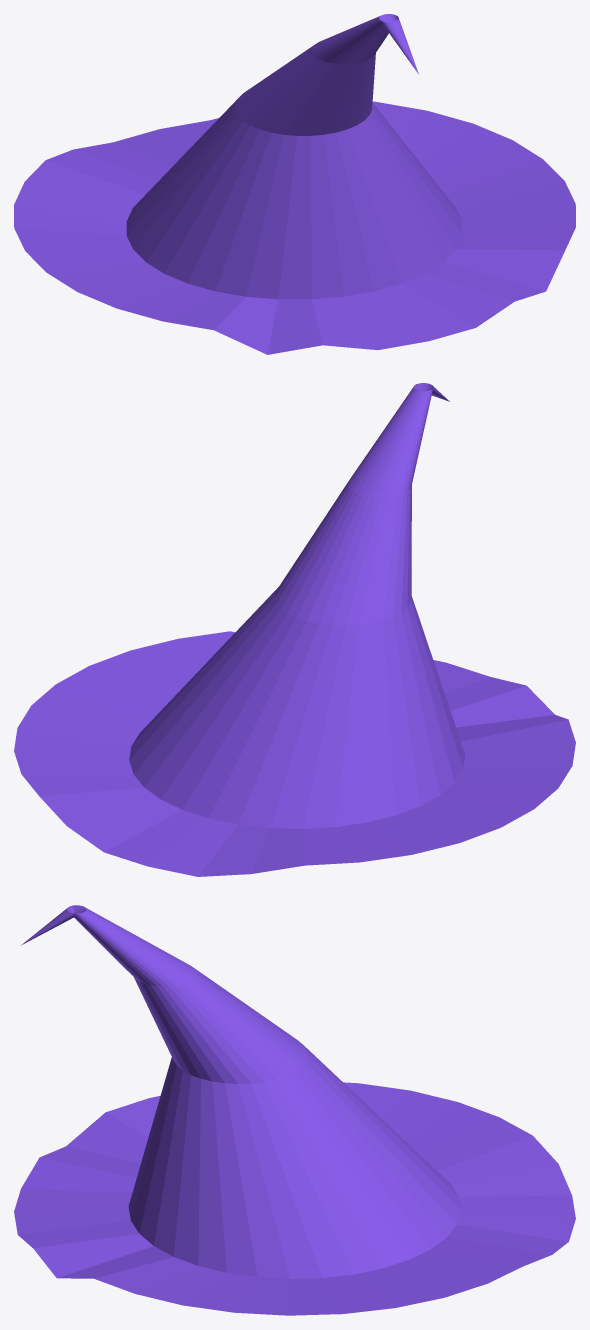
Rendered from WitchHat.fbx.
3 renders of one model, top to bottom at view 1: azimuth 30°, elevation 25°; view 2: azimuth 150°, elevation 25°; view 3: azimuth 270°, elevation 25°, orthographic.
Parts seen in each view (by area): view 1: Cylinder; view 2: Cylinder; view 3: Cylinder.
Part boxes in pixels (x1,y1,x2,y2): Cylinder: (14, 14, 575, 354); Cylinder: (14, 383, 575, 876); Cylinder: (14, 905, 575, 1315).
Bounding box in the file's own units: 334 × 202 × 337.
